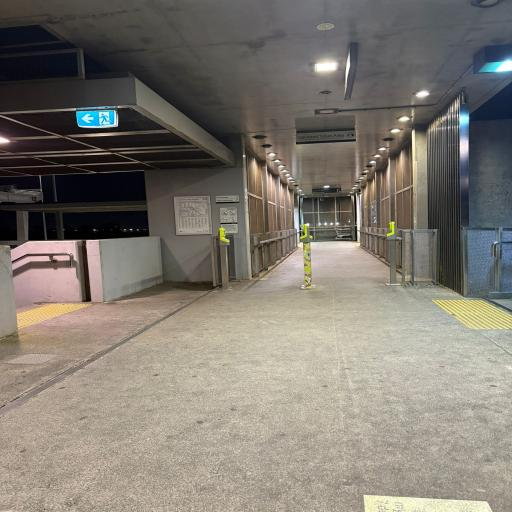Obstruction: (300, 219, 319, 289)
clear_path: (18, 241, 507, 496)
tgsi: (437, 295, 507, 328), (17, 304, 90, 329)
